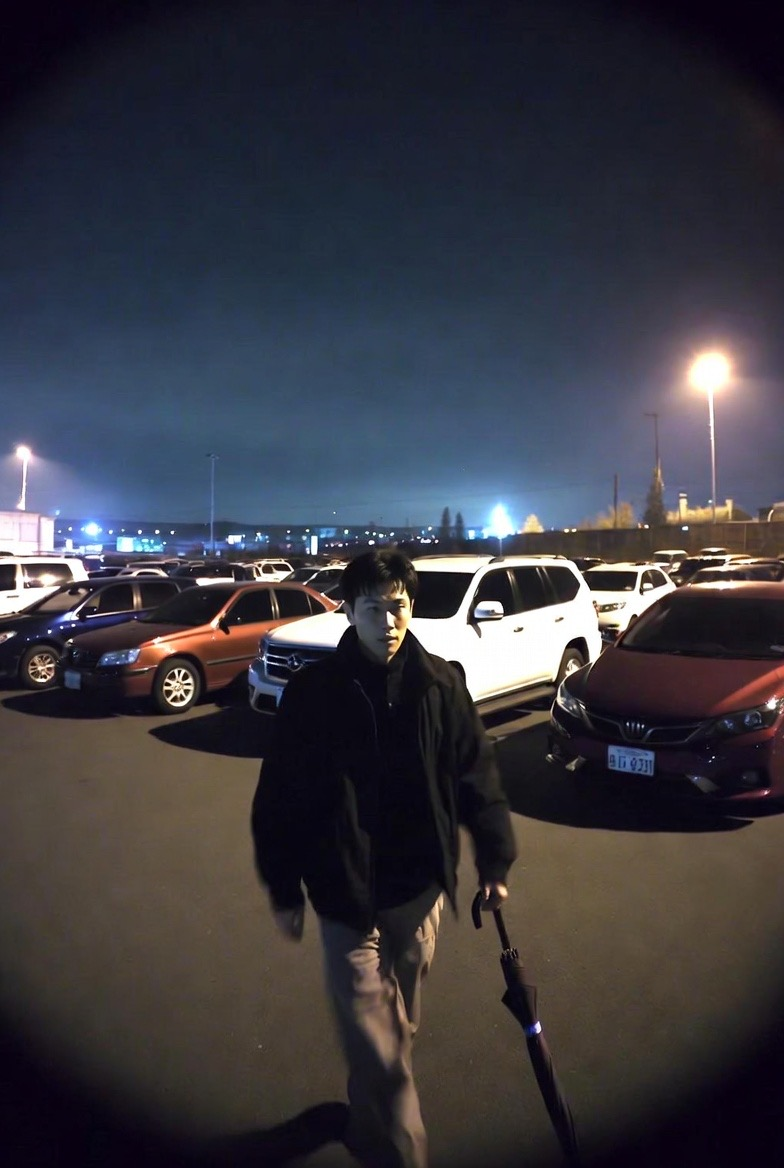person: (250, 547, 519, 1168)
umbrella: (472, 887, 589, 1167)
